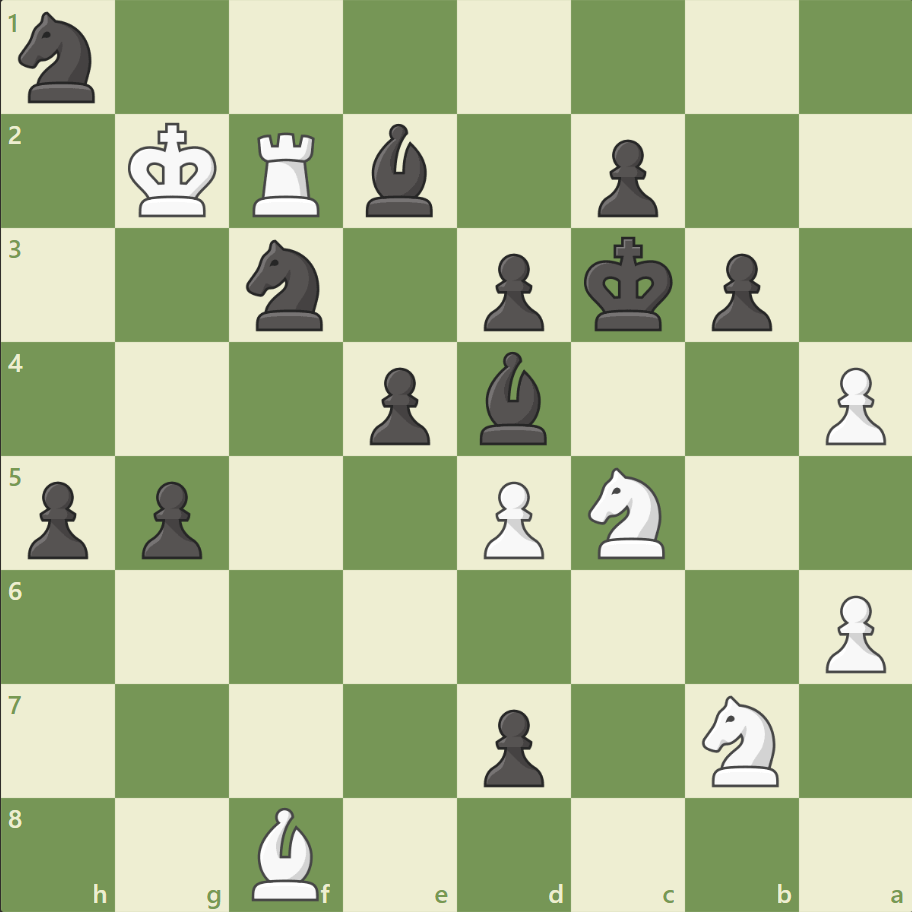B: (244, 801, 328, 904)
K: (124, 117, 224, 225)
N: (692, 688, 789, 791), (579, 461, 676, 564)
P: (474, 473, 549, 564), (815, 586, 889, 677), (815, 359, 889, 450)
R: (246, 125, 329, 222)
b: (471, 347, 555, 449), (358, 120, 442, 222)
k: (579, 231, 679, 339)
n: (238, 234, 335, 337), (11, 7, 108, 110)
p: (474, 700, 549, 791), (133, 473, 208, 564), (20, 473, 95, 564), (701, 246, 776, 337), (474, 246, 549, 337), (361, 359, 435, 450), (588, 132, 662, 223)
